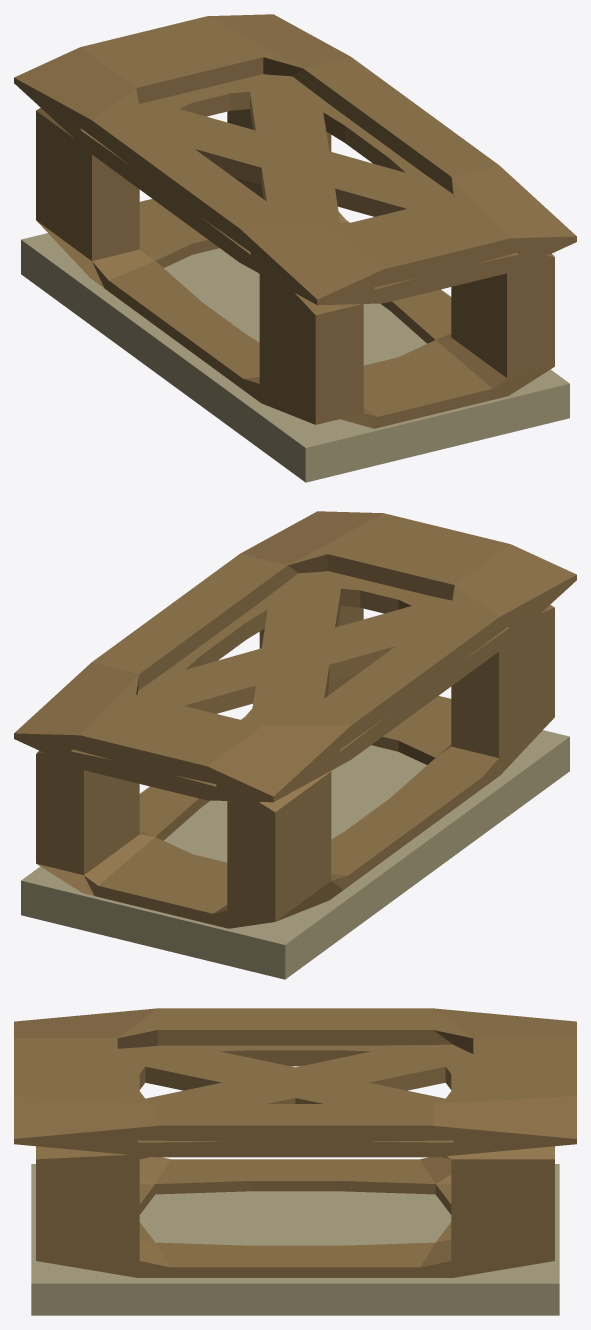
File: Altanka.fbx
The picture shows the model from 3 angles, top to bottom: view 1: azimuth 30°, elevation 25°; view 2: azimuth 150°, elevation 25°; view 3: azimuth 270°, elevation 25°; orthographic projection. The views are drawn at different scales.
Parts seen in each view (by area): view 1: Cube.013; view 2: Cube.013; view 3: Cube.013.
Part boxes in pixels (box(x1,y1,x2,y2)): Cube.013: box(14, 14, 576, 482); Cube.013: box(14, 511, 576, 979); Cube.013: box(14, 1008, 576, 1315).
Size of the model in its own units: 798 by 588 by 1588.
